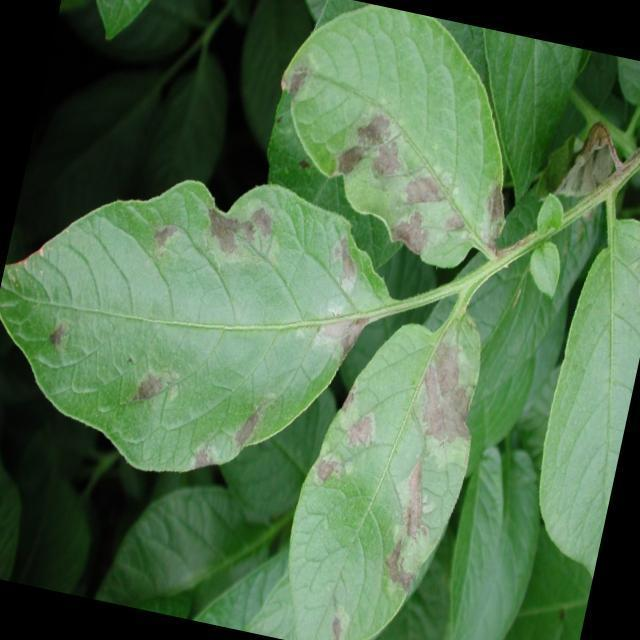Healthy Leaf: (430, 444, 557, 640)
